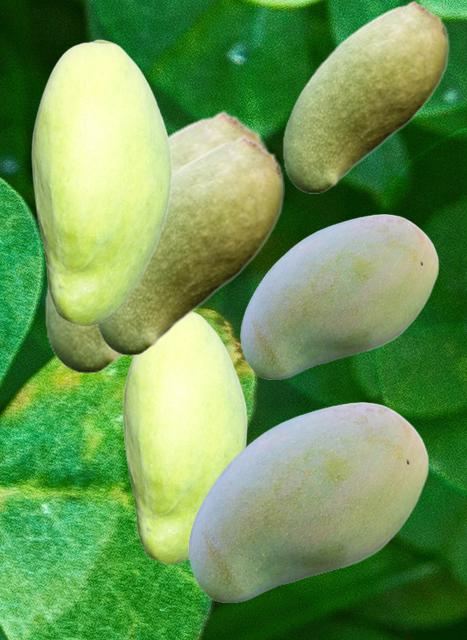green_mango: (44, 110, 270, 372), (188, 402, 428, 601), (95, 135, 283, 354), (31, 39, 171, 325), (240, 214, 438, 378), (282, 0, 448, 192), (122, 312, 246, 563)
